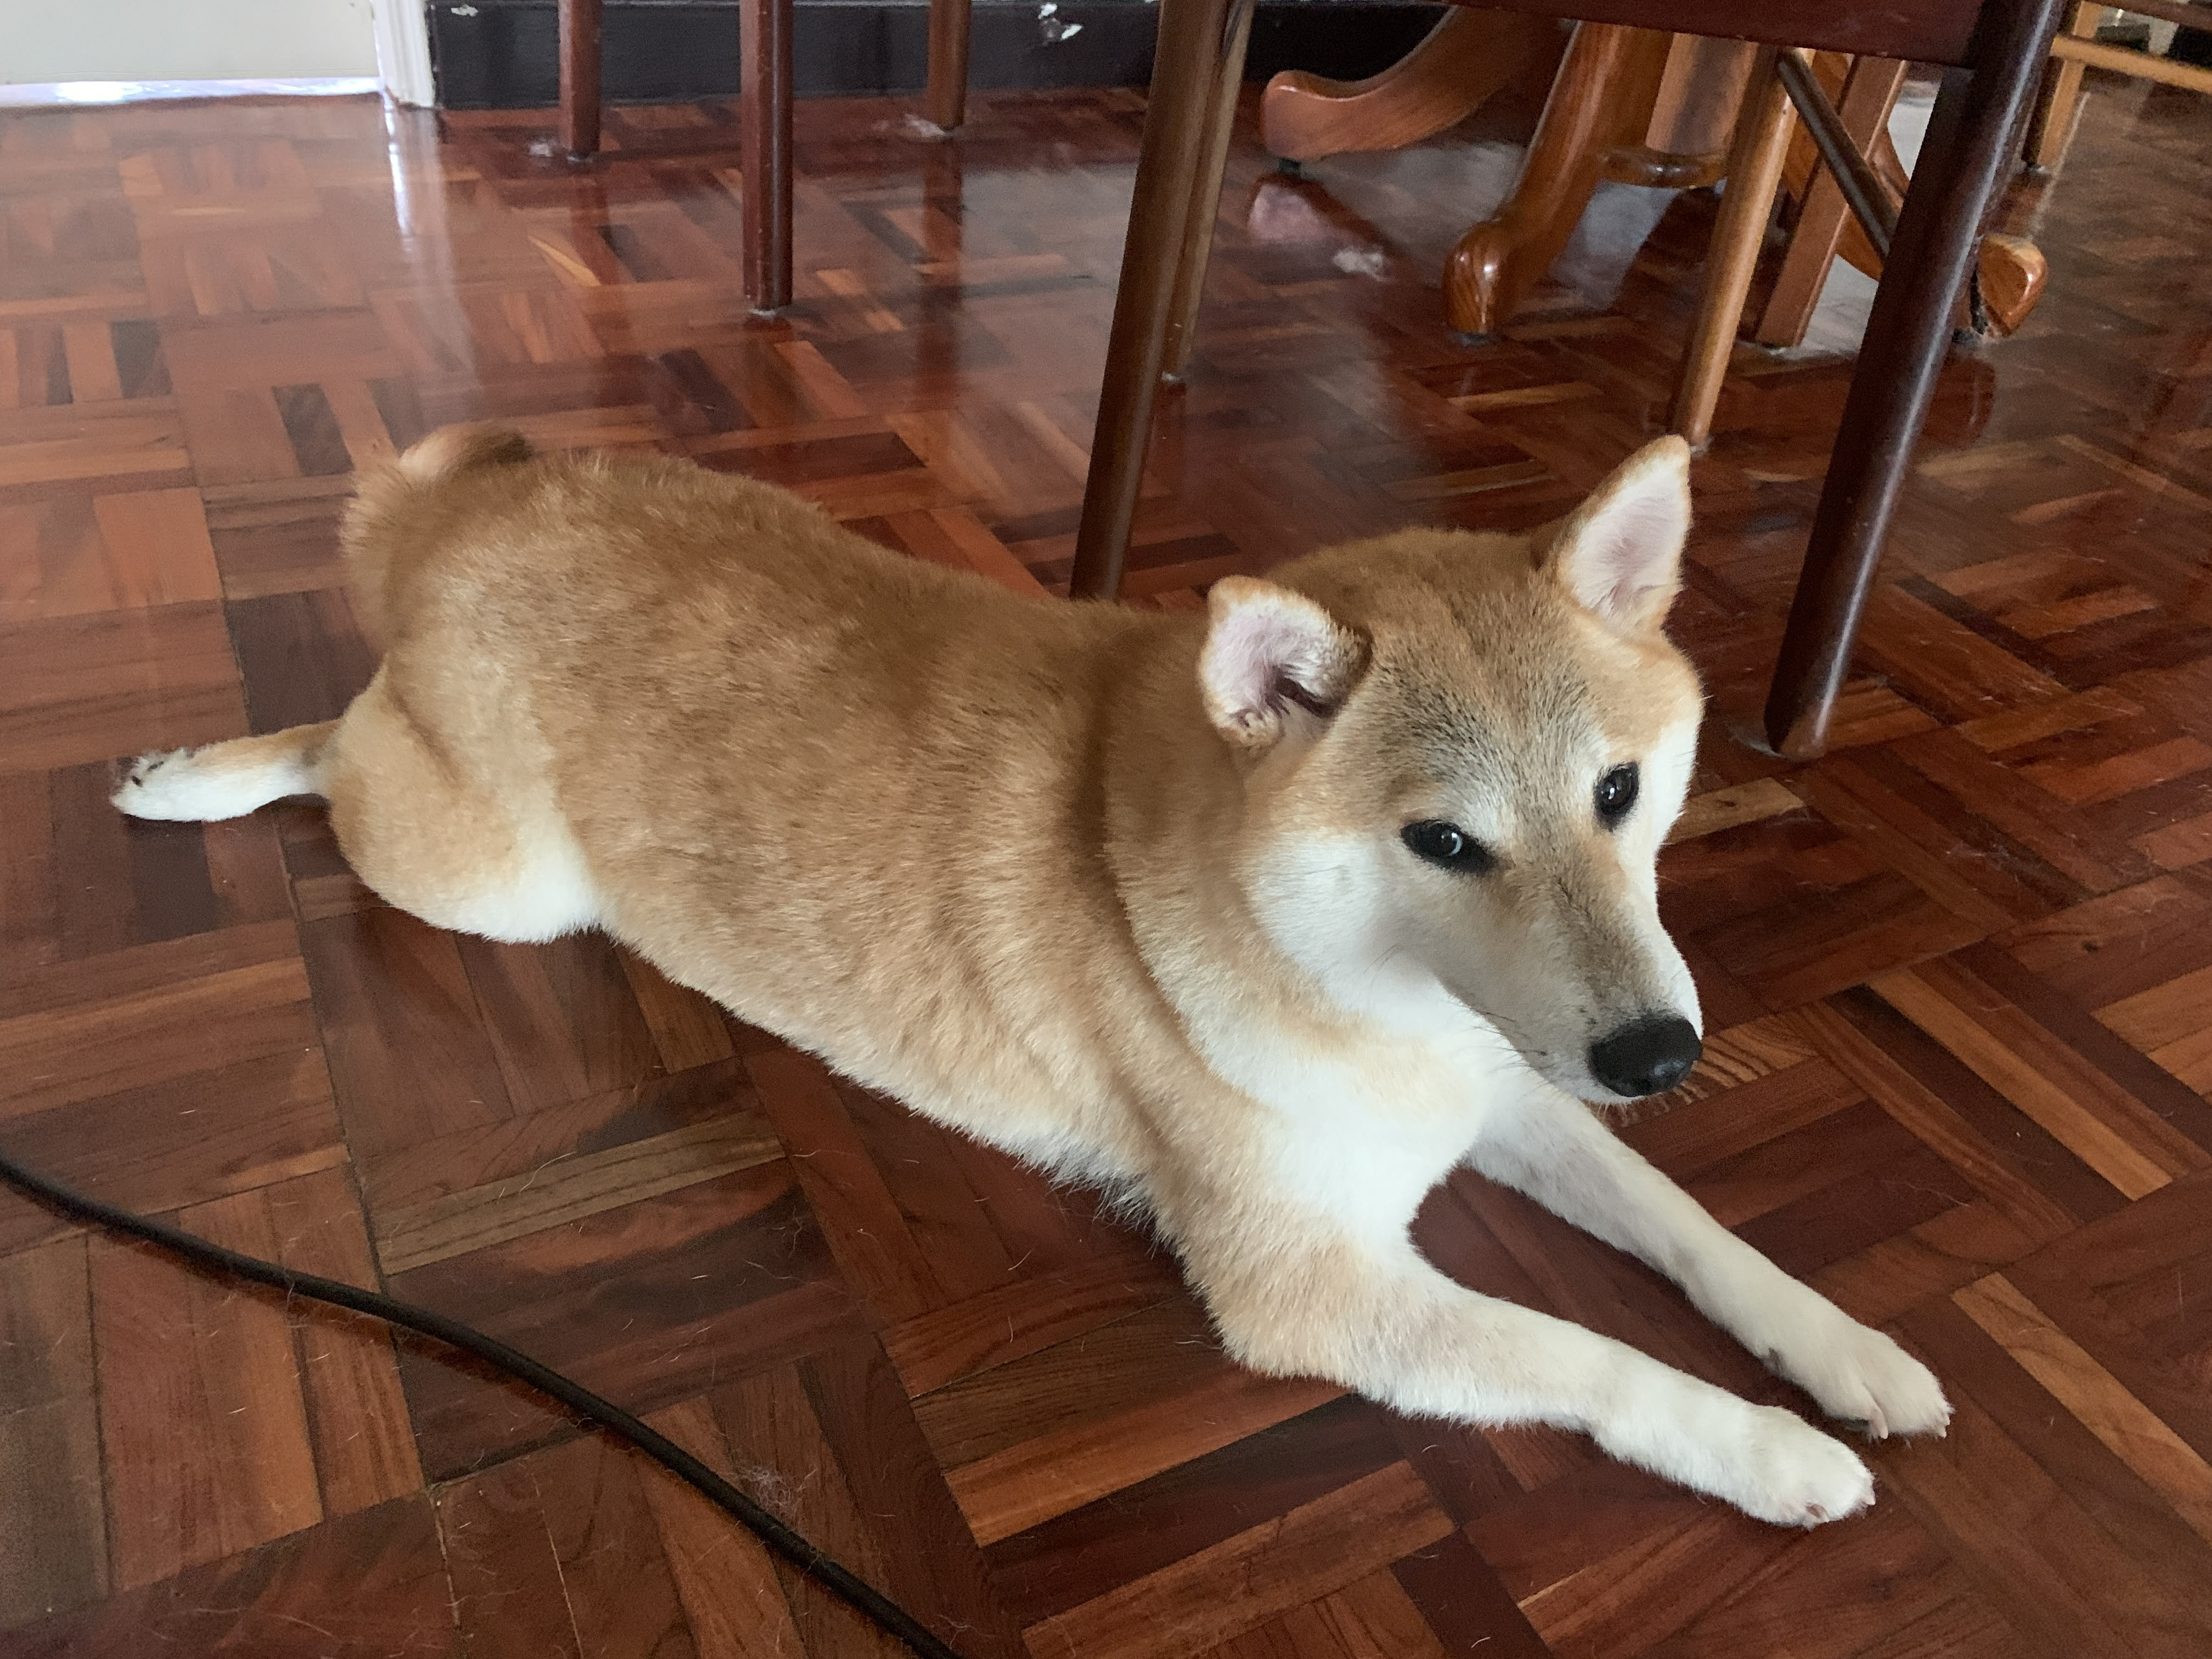Get down: (87, 373, 2019, 1534)
